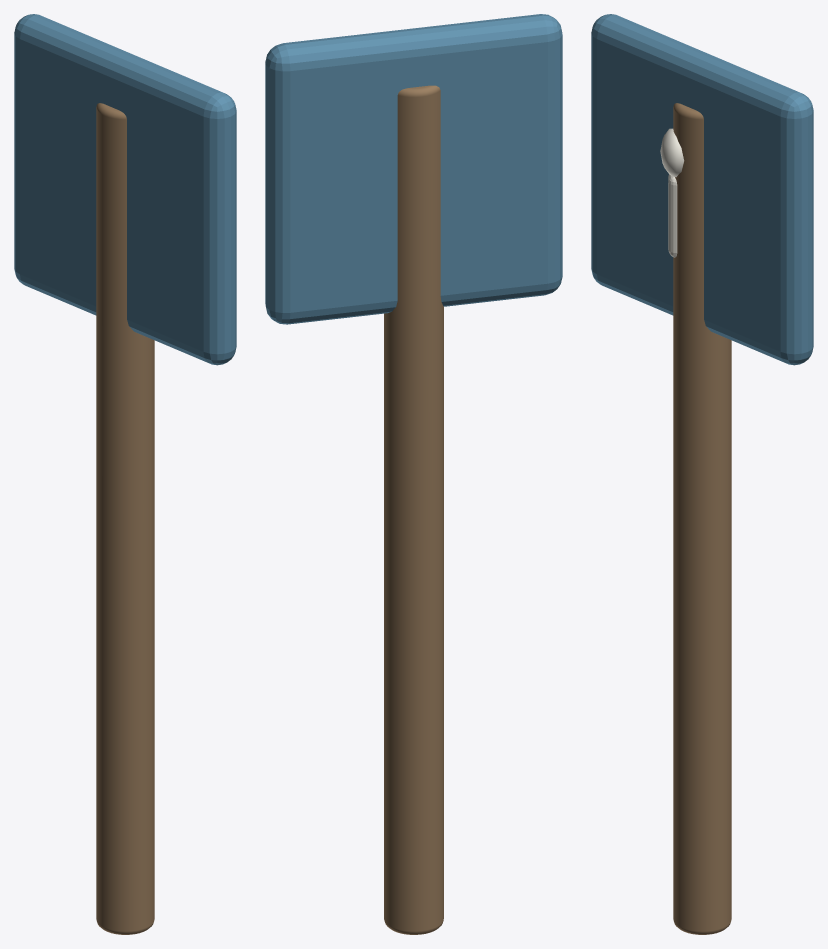
3 views of the same model, side by side, from view 1: azimuth 90°, elevation 25°; view 2: azimuth 150°, elevation 25°; view 3: azimuth 270°, elevation 25° (orthographic). The views are drawn at different scales.
Parts seen in each view (by area): view 1: LOD0_SIGN_PED_CROSSING_Plate, LOD0_SIGN_PED_CROSSING_Pole; view 2: LOD0_SIGN_PED_CROSSING_Plate, LOD0_SIGN_PED_CROSSING_Pole; view 3: LOD0_SIGN_PED_CROSSING_Plate, LOD0_SIGN_PED_CROSSING_Pole, LOD0_SIGN_PED_CROSSING_PersonHead, LOD0_SIGN_PED_CROSSING_PersonBody.
Part boxes in pixels (bbox=[...]): LOD0_SIGN_PED_CROSSING_Plate: bbox=[14, 14, 236, 365]; LOD0_SIGN_PED_CROSSING_Pole: bbox=[96, 103, 154, 934]; LOD0_SIGN_PED_CROSSING_Plate: bbox=[265, 14, 562, 324]; LOD0_SIGN_PED_CROSSING_Pole: bbox=[384, 85, 443, 934]; LOD0_SIGN_PED_CROSSING_Plate: bbox=[591, 14, 813, 365]; LOD0_SIGN_PED_CROSSING_Pole: bbox=[673, 103, 731, 934]; LOD0_SIGN_PED_CROSSING_PersonHead: bbox=[660, 128, 684, 177]; LOD0_SIGN_PED_CROSSING_PersonBody: bbox=[668, 174, 677, 257].
Size of what is drawn, in the model's own units: 0.6857 by 2.96 by 0.6857.
